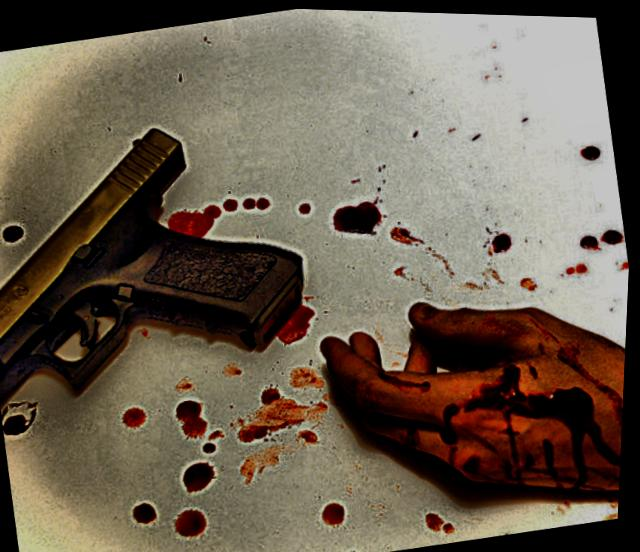pistol: (0, 98, 324, 413)
